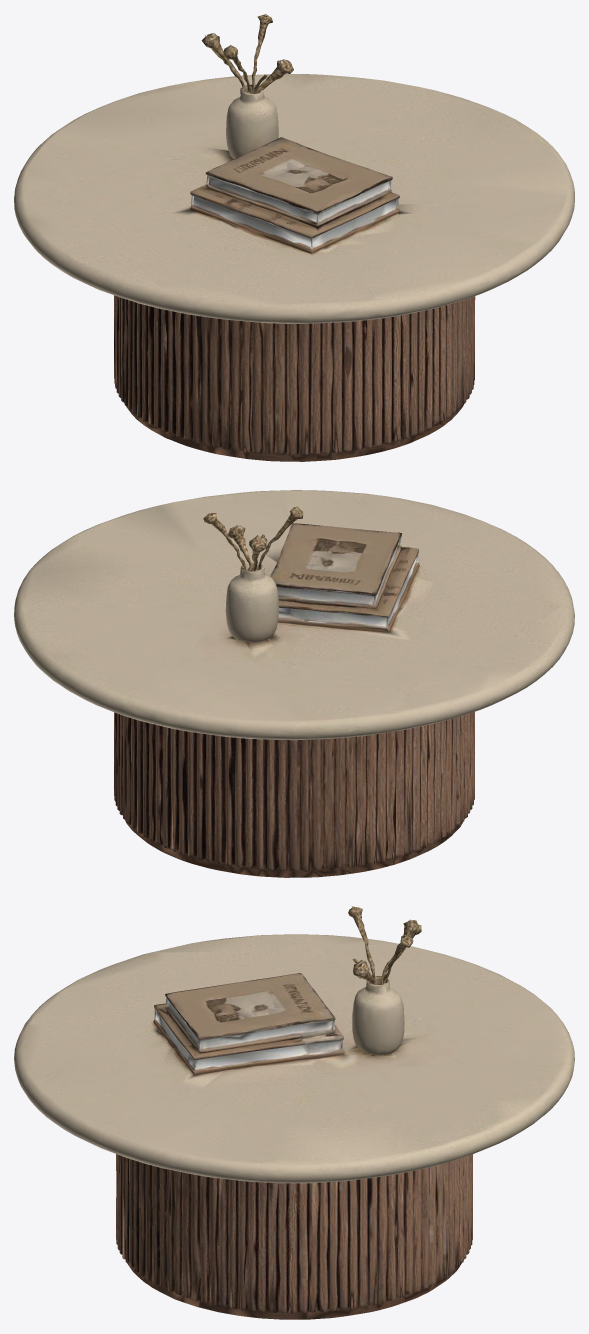
File: m_coffee.glb
The picture shows the model from 3 angles, top to bottom: view 1: azimuth 30°, elevation 25°; view 2: azimuth 150°, elevation 25°; view 3: azimuth 270°, elevation 25°; orthographic projection.
Parts seen in each view (by area): view 1: tripo_node_d906cbfa-8b08-4fec-8a94-1887bb40921c; view 2: tripo_node_d906cbfa-8b08-4fec-8a94-1887bb40921c; view 3: tripo_node_d906cbfa-8b08-4fec-8a94-1887bb40921c.
Part boxes in pixels (bbox=[...]): tripo_node_d906cbfa-8b08-4fec-8a94-1887bb40921c: bbox=[14, 14, 574, 461]; tripo_node_d906cbfa-8b08-4fec-8a94-1887bb40921c: bbox=[14, 490, 574, 877]; tripo_node_d906cbfa-8b08-4fec-8a94-1887bb40921c: bbox=[14, 906, 574, 1319].
Bounding box in the file's own units: 0.9999 × 0.6392 × 1.
Materials: 1 (1 with a texture image).
